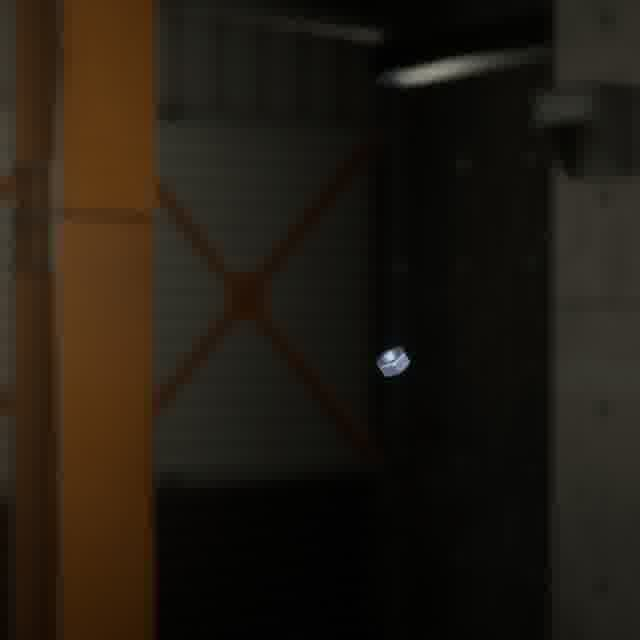nut: (372, 342, 414, 381)
